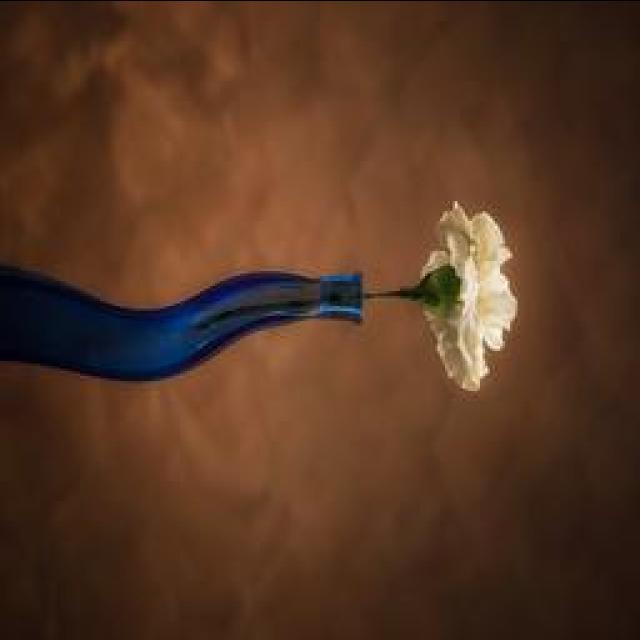carnation: (402, 199, 532, 409)
